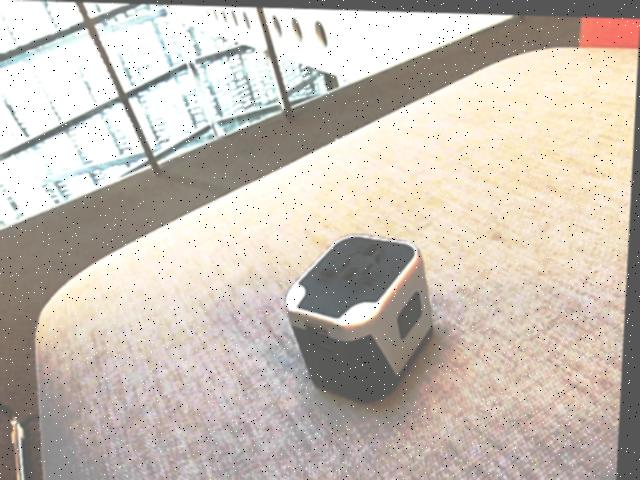adapter: (283, 228, 440, 401)
